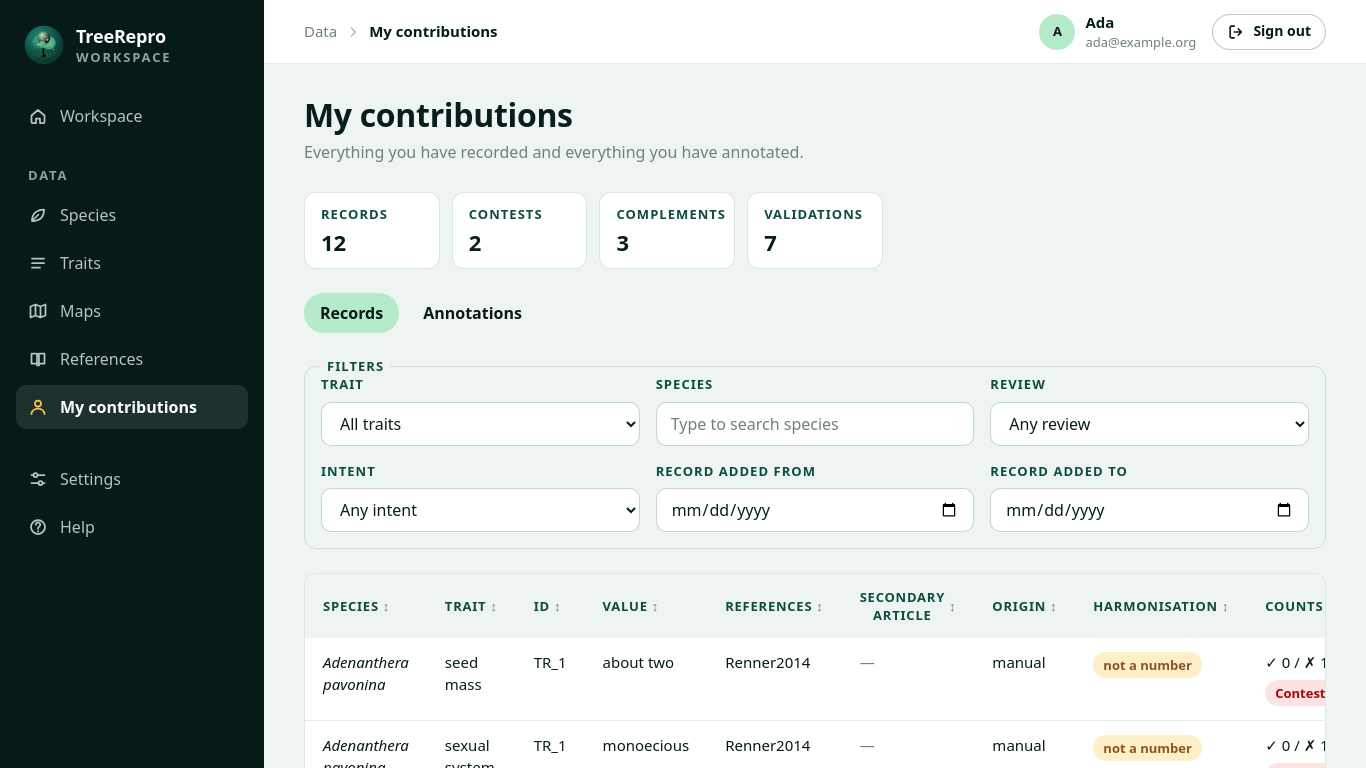
Scenario: RFC-71 R1, R2, R4 the contributions page › marks each record with its standing and opens the drawer on a row
Check: the 1st text "Contested" is shown, box [1265,680,1326,706]
Click the button "about two" at (638, 663), box [603,652,674,674]
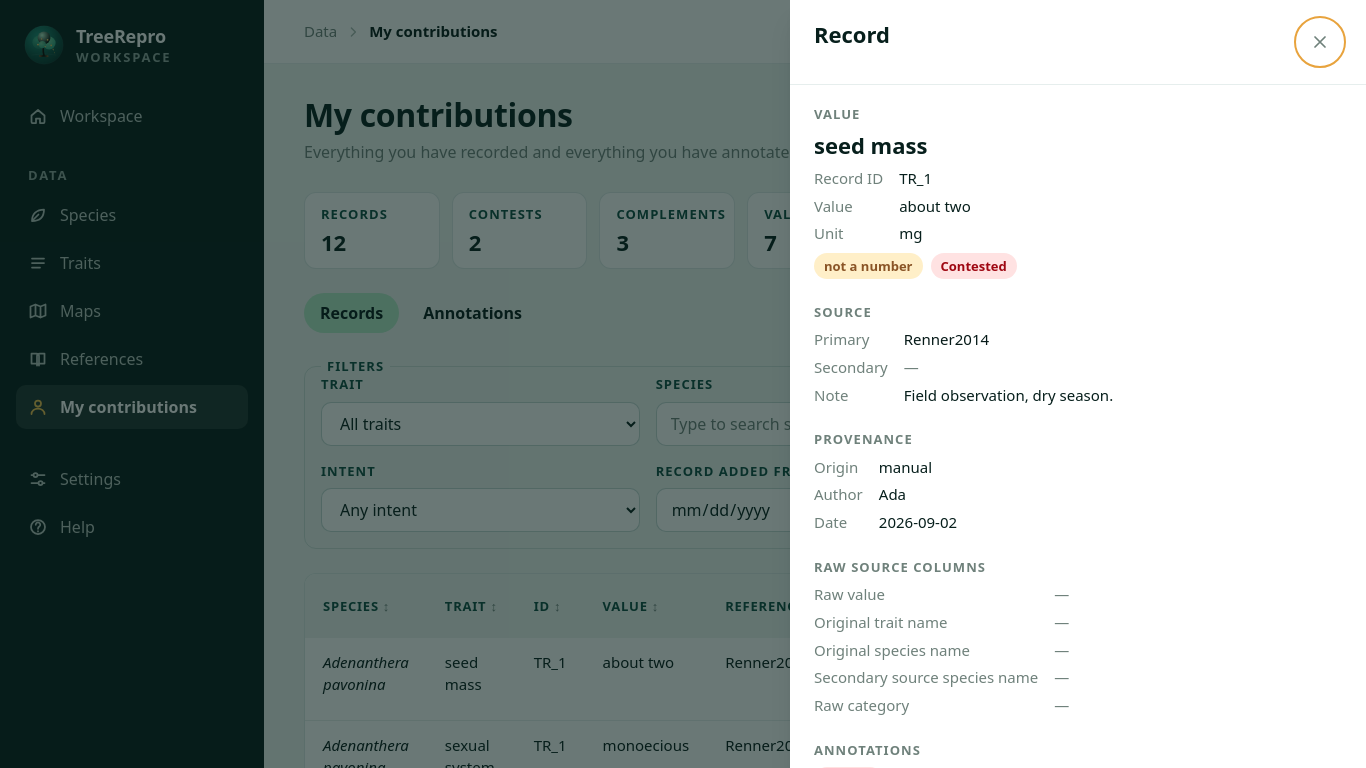
Check: the dialog "Record" is shown, box [790,0,1365,767]
